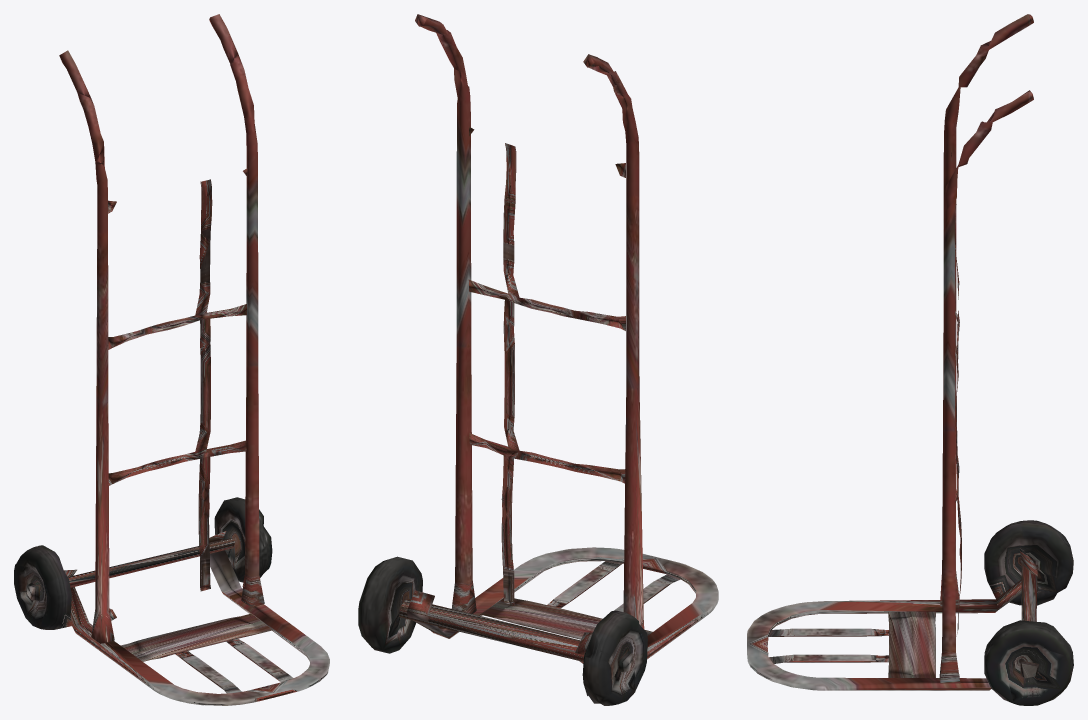
The model's file is hand-truck.lite.d5f20cef.glb.
3 views of the same model, side by side, from view 1: azimuth 30°, elevation 25°; view 2: azimuth 150°, elevation 25°; view 3: azimuth 270°, elevation 25° (orthographic). The views are drawn at different scales.
Parts seen in each view (by area): view 1: model; view 2: model; view 3: model.
Part boxes in pixels (box(x1,y1,x2,y2)): model: box(14, 14, 329, 705); model: box(358, 14, 718, 705); model: box(747, 14, 1073, 705).
Bounding box in the file's own units: 0.5789 × 1.4 × 0.6907.
1 material, 1 textured.
